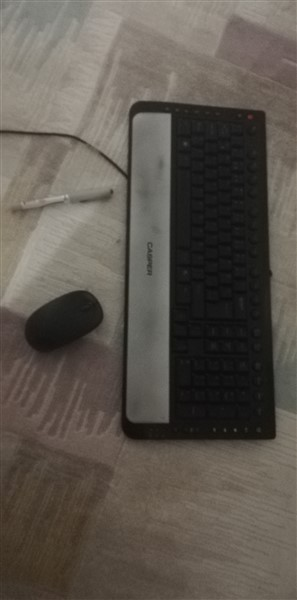klavye: (122, 95, 280, 446)
mouse: (25, 291, 107, 353)
pilot kalem: (12, 187, 118, 217)
